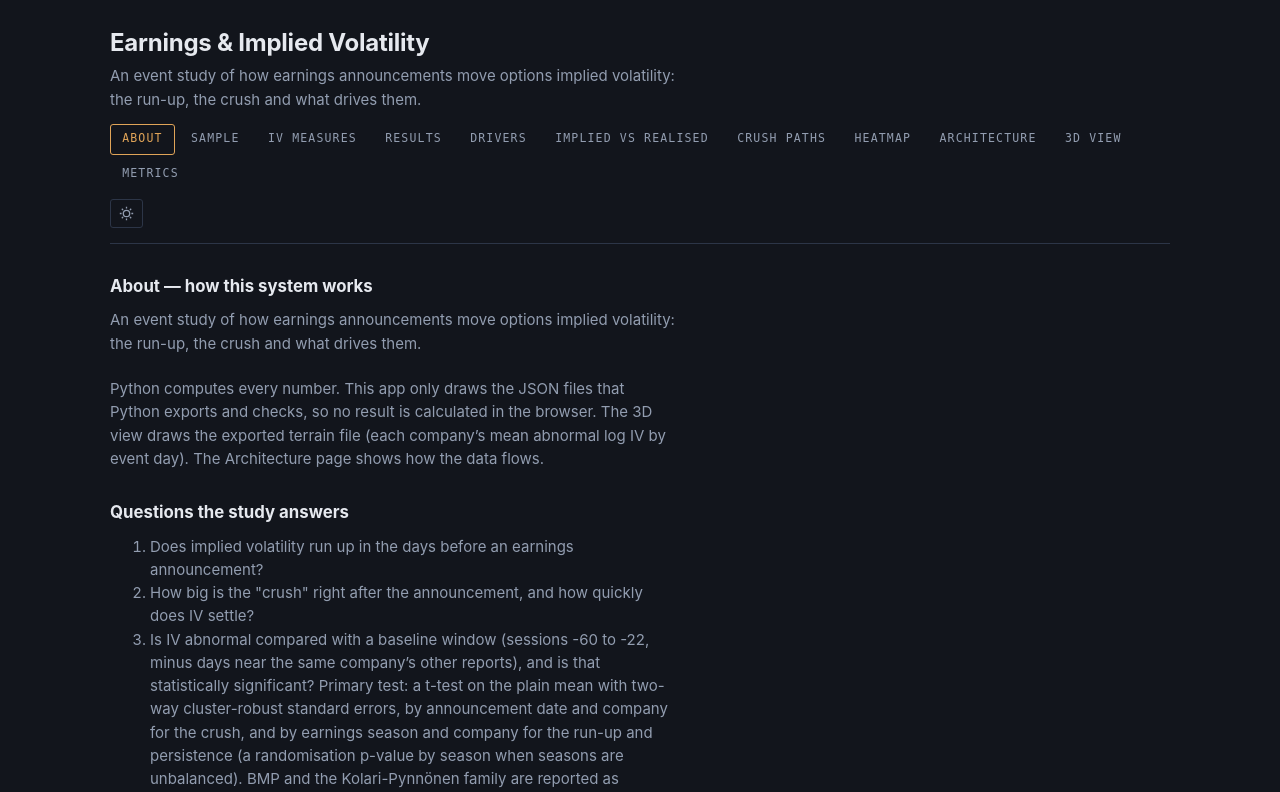
Scenario: App (integration) › has an Implied vs realised page, after Drivers, that draws implied_vs_realised.json (the fixture here) under a provisional-labels notice
The width and height of the screenshot is (1280, 792).
Click the link "Implied vs realised": (632,138) [555,131,709,145]
(page scrolled)
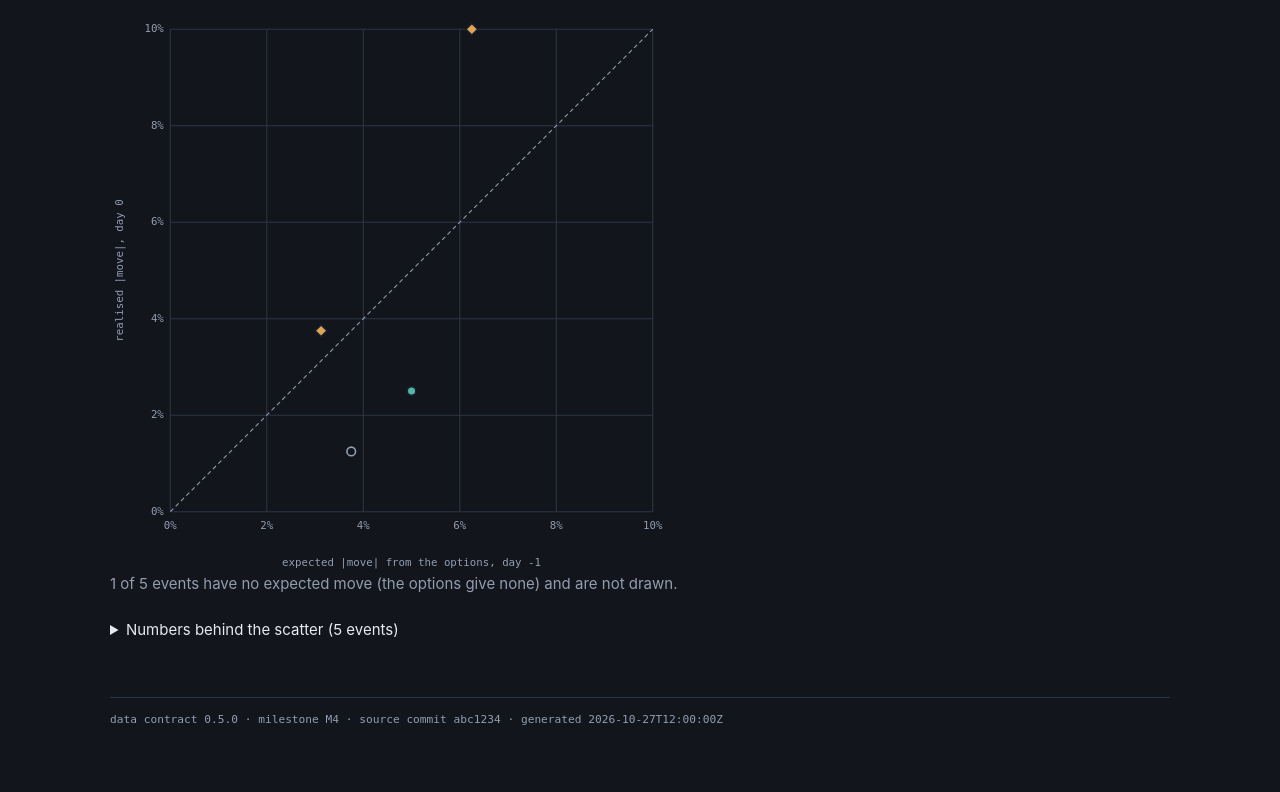
Check: the picture named "Scatter of the realised absolute move against the expected absolute move, 4 events" is shown, box [110,12,670,572]
Check: the text "source commit abc1234" is shown, box [110,713,723,726]
